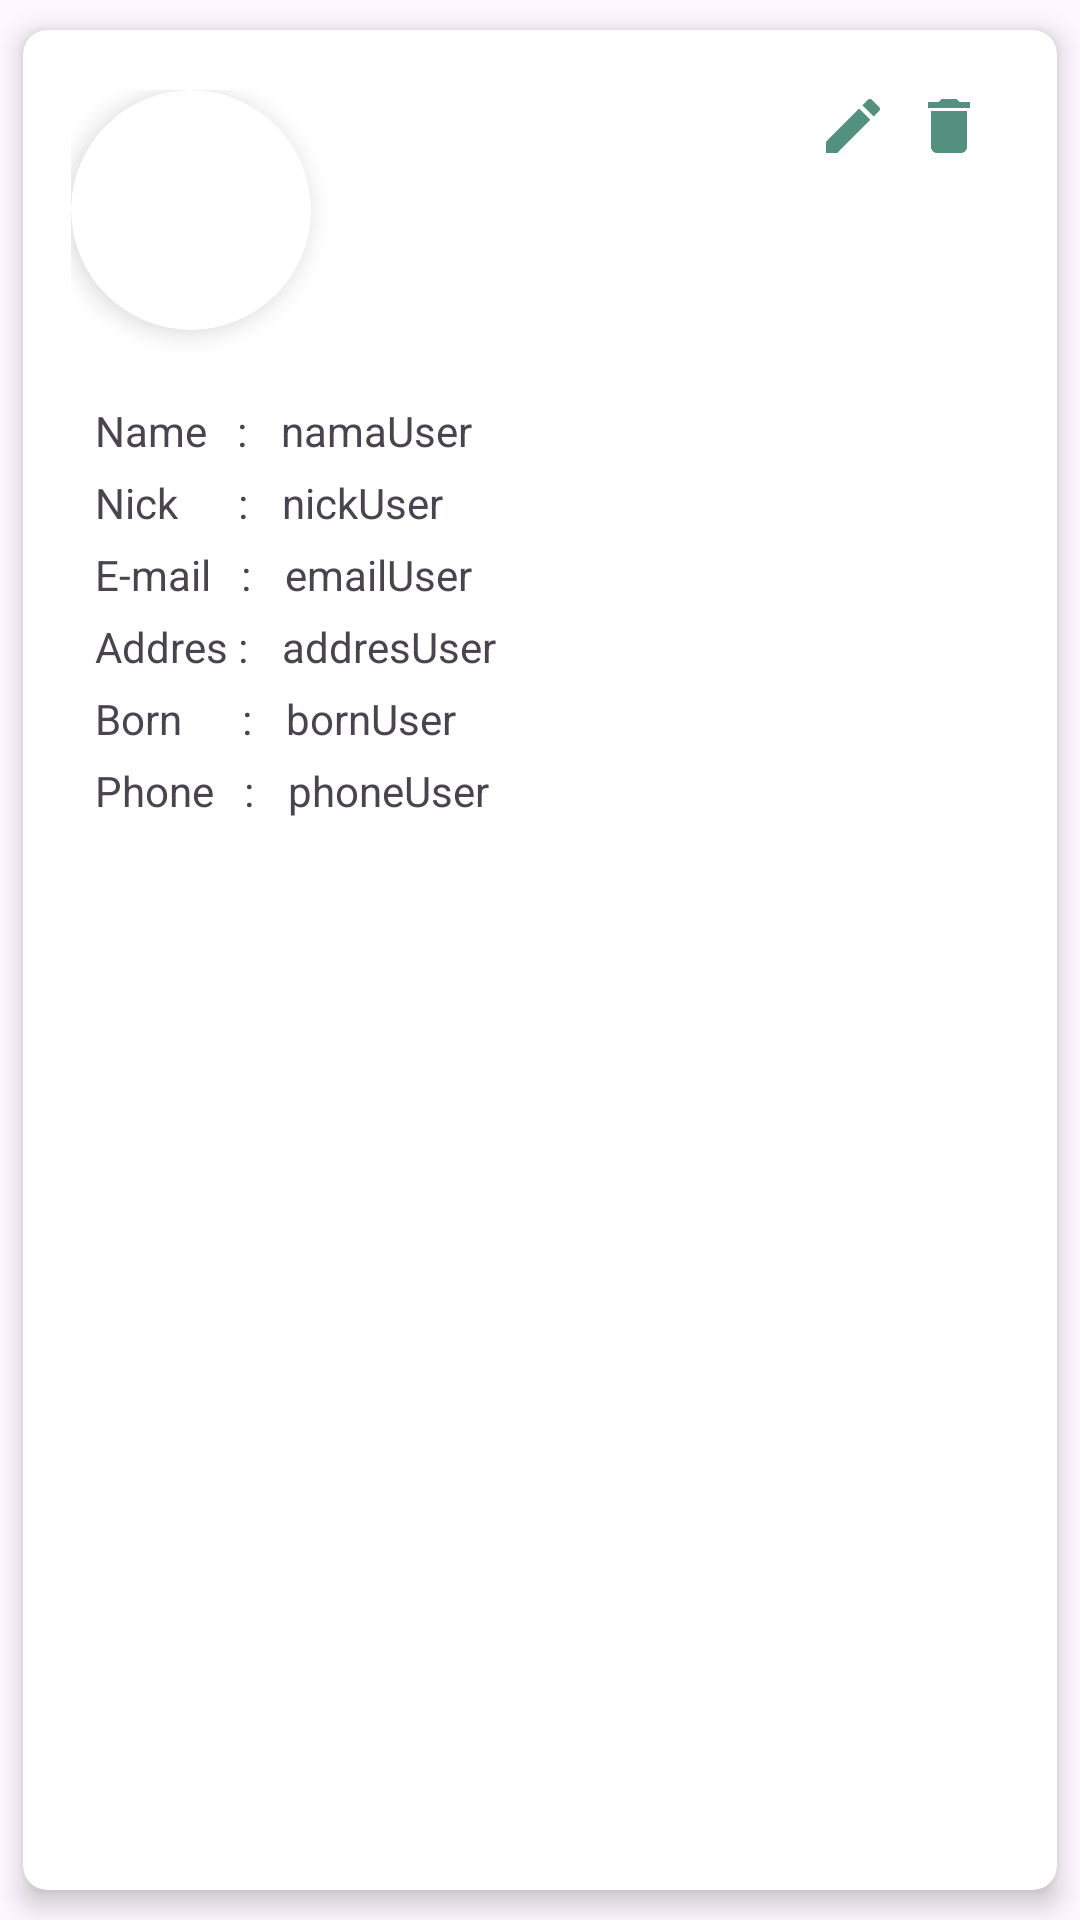

Named icons in this screenshot (1080 x 1920) and their bounding boxes, BBox(x1, y1, x2, y2):
delete: BBox(928, 99, 970, 153)
edit: BBox(826, 99, 880, 153)
